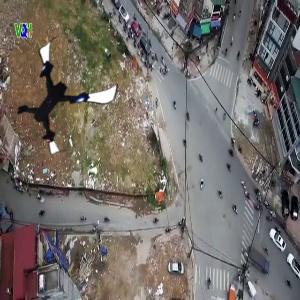drone: (8, 43, 109, 144)
